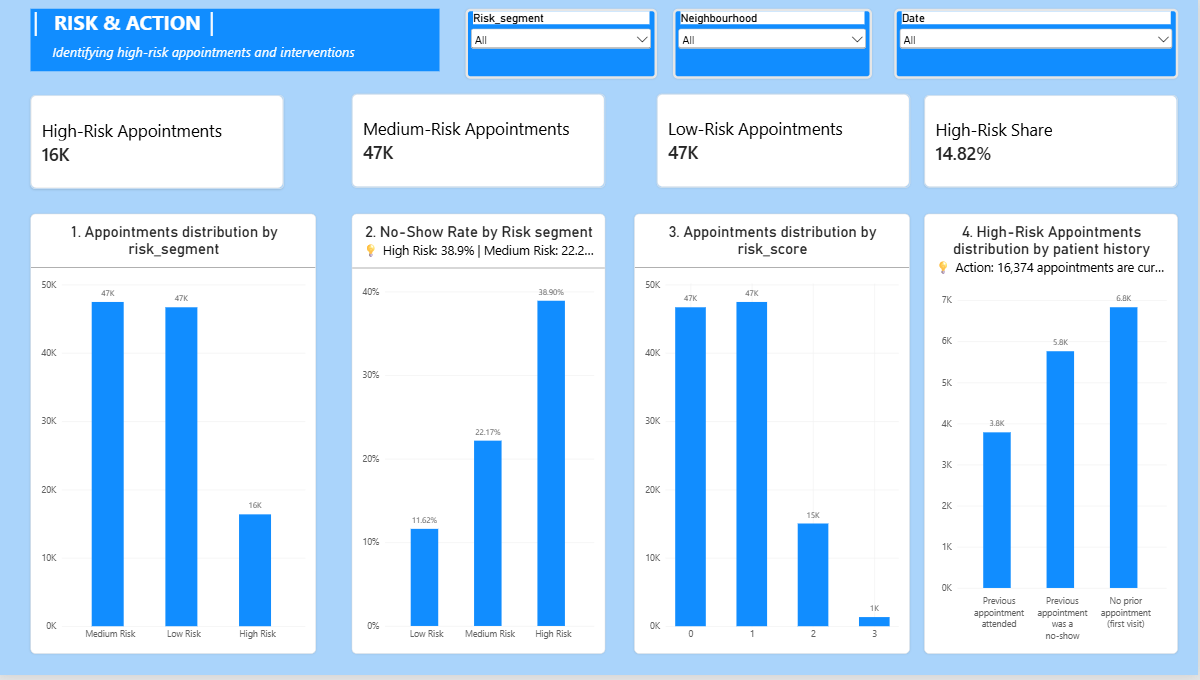

This screenshot's page, from the dashboard's own definition file:
{"tool":"powerbi","page":{"name":"Risk & Action","canvas":[1920,1080],"ordinal":3},"visuals":[{"type":"textbox","box":[9.3,0,679.6,113],"z":0},{"type":"cardVisual","fields":{"Data":["FactAppointments.High-Risk Appointments"]},"box":[51.5,152.3,405.5,150.3],"z":1000},{"type":"cardVisual","fields":{"Data":["FactAppointments.Medium-Risk Appointments"]},"box":[566,150.3,405.5,150.3],"z":2000},{"type":"cardVisual","fields":{"Data":["FactAppointments.Low-Risk Appointments"]},"box":[1053.9,150.3,405.5,150.3],"z":3000},{"type":"cardVisual","fields":{"Data":["FactAppointments.High-Risk Share"]},"box":[1482,152.3,405.5,148.2],"z":4000},{"type":"clusteredColumnChart","title":"1. Appointments distribution by risk_segment","fields":{"Category":["FactAppointments.risk_segment"],"Y":["FactAppointments.Total Appointments"]},"box":[51.5,341.7,456.9,703.9],"z":5000},{"type":"clusteredColumnChart","title":"2. No-Show Rate by Risk segment","fields":{"Category":["FactAppointments.risk_segment"],"Y":["FactAppointments.No-Show Rate"]},"box":[566,341.7,405.5,703.9],"z":6000},{"type":"clusteredColumnChart","title":"3. Appointments distribution by risk_score","fields":{"Category":["FactAppointments.risk_score"],"Y":["FactAppointments.Total Appointments"]},"box":[1018.9,341.7,440.5,703.9],"z":7000},{"type":"clusteredColumnChart","title":"4. High-Risk Appointments distribution by patient history","fields":{"Category":["FactAppointments.Patient History Segment"],"Y":["FactAppointments.High-Risk Appointments"]},"box":[1482,341.7,405.5,703.9],"z":8000},{"type":"slicer","fields":{"Values":["DimDate.year_month"]},"box":[1433.3,0,453.7,113],"z":9000},{"type":"slicer","fields":{"Values":["DimLocation.neighbourhood"]},"box":[1085.2,0,318.5,113],"z":10000},{"type":"slicer","fields":{"Values":["FactAppointments.risk_segment"]},"box":[746.3,0,305.6,113],"z":11000}]}

Visuals, with their boxes in screenshot pixels (x1, y1, x2, y2), scaled from the page's 1920x1080 canvas onto the 1200x680 screenshot:
textbox: <region>6, 0, 431, 71</region>
cardVisual - FactAppointments.High-Risk Appointments: <region>32, 96, 286, 191</region>
cardVisual - FactAppointments.Medium-Risk Appointments: <region>354, 95, 607, 189</region>
cardVisual - FactAppointments.Low-Risk Appointments: <region>659, 95, 912, 189</region>
cardVisual - FactAppointments.High-Risk Share: <region>926, 96, 1180, 189</region>
"1. Appointments distribution by risk_segment" clusteredColumnChart: <region>32, 215, 318, 658</region>
"2. No-Show Rate by Risk segment" clusteredColumnChart: <region>354, 215, 607, 658</region>
"3. Appointments distribution by risk_score" clusteredColumnChart: <region>637, 215, 912, 658</region>
"4. High-Risk Appointments distribution by patient history" clusteredColumnChart: <region>926, 215, 1180, 658</region>
slicer - DimDate.year_month: <region>896, 0, 1179, 71</region>
slicer - DimLocation.neighbourhood: <region>678, 0, 877, 71</region>
slicer - FactAppointments.risk_segment: <region>466, 0, 657, 71</region>
